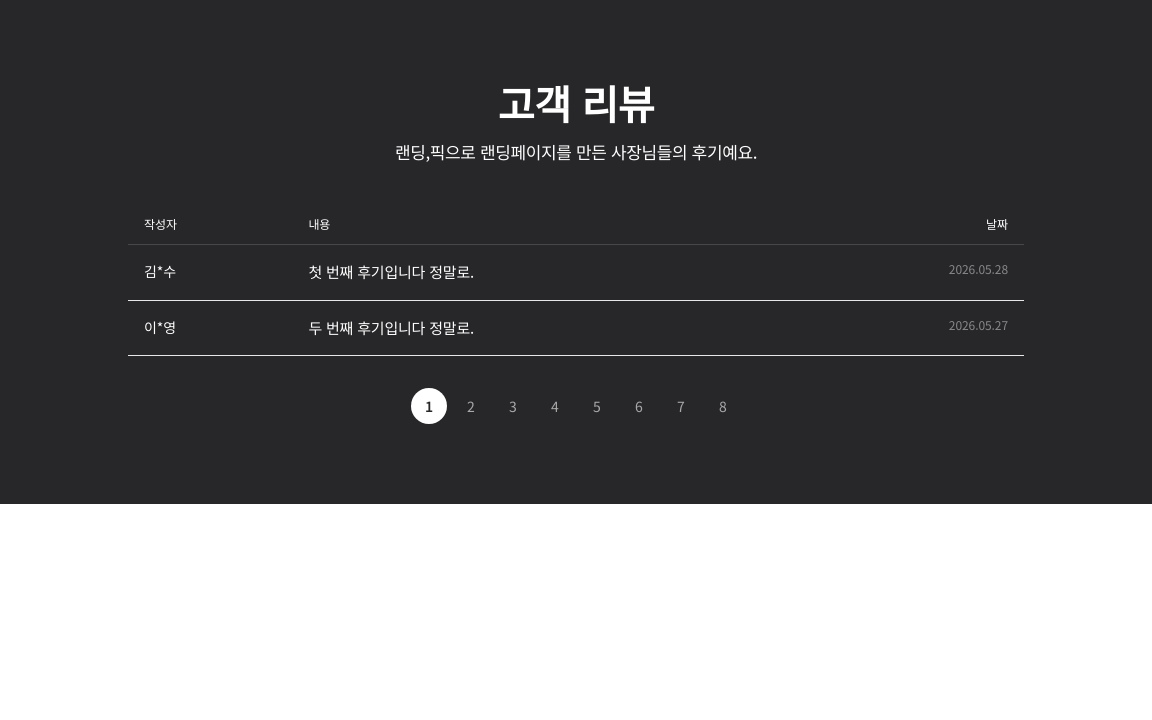
Test: ReviewSection (테이블 + 페이지네이션) › 페이지 번호 클릭 시 해당 페이지를 fetch해 행을 교체한다
Click the button named "2페이지" at (471, 406), box [453, 388, 489, 424]
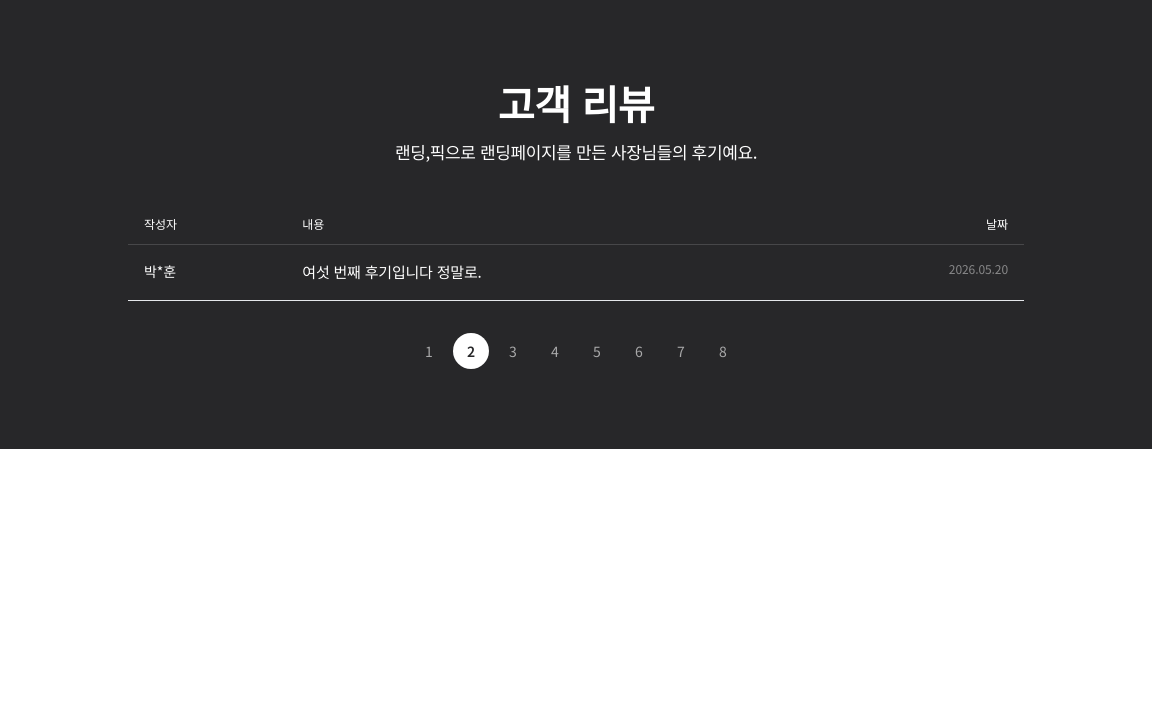
Check: the text "여섯 번째 후기입니다 정말로." is shown, box [286, 245, 802, 300]
Check: the text "첫 번째 후기입니다 정말로." is gone
